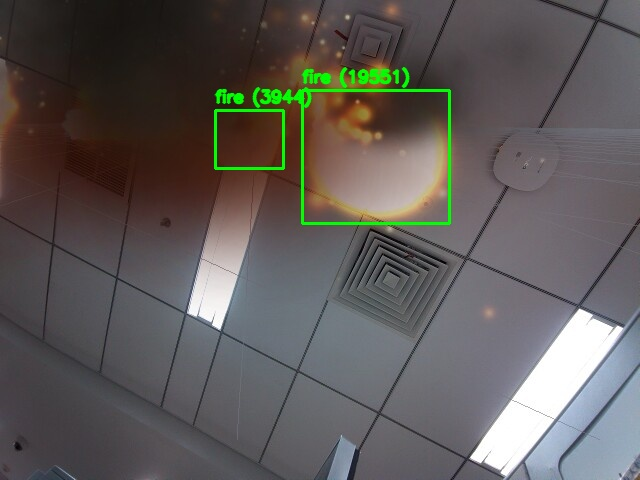fire: (302, 90, 449, 223), (215, 110, 283, 168)
